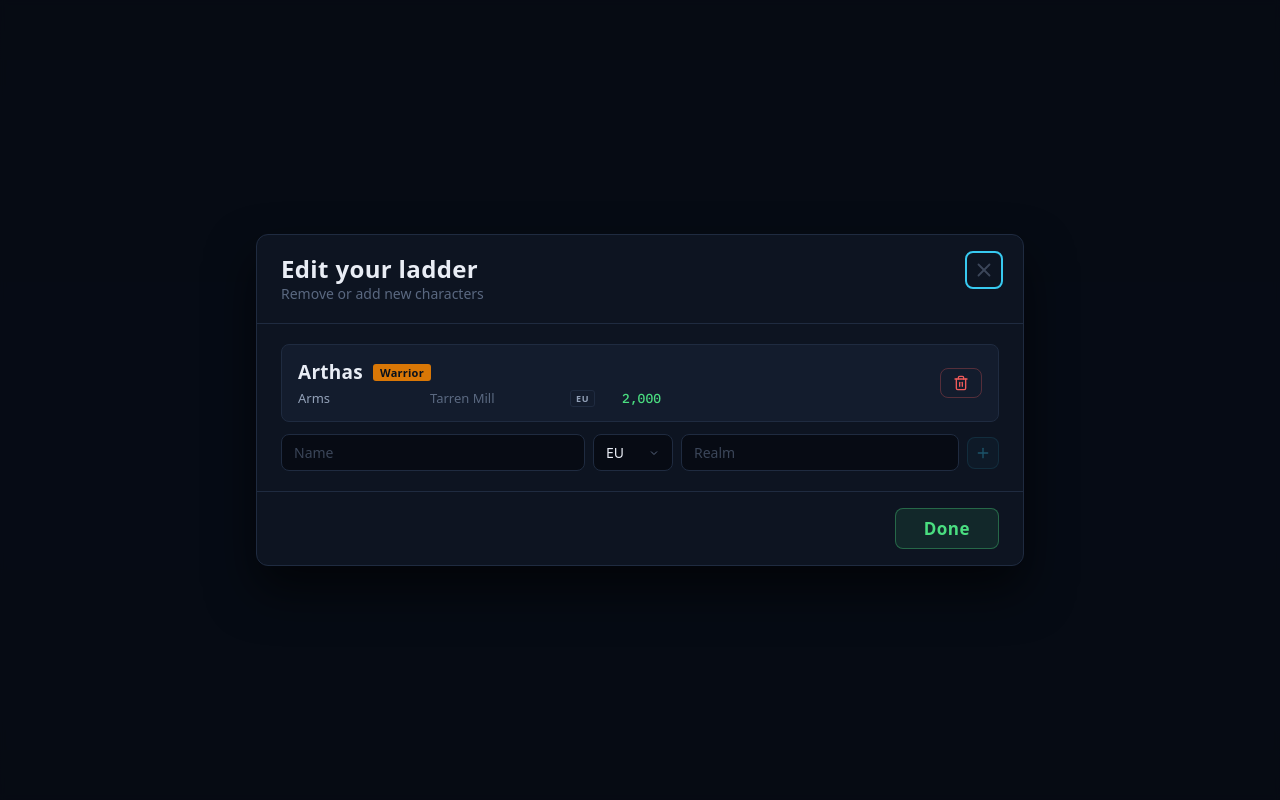
Test: EditView › blocks saving while a name is typed but not added
Expected: the button "Done" is enabled, [895,508,999,549]
In the field with placeholder "Name": (433, 453) [281,434,585,471], type "Sylvanas"
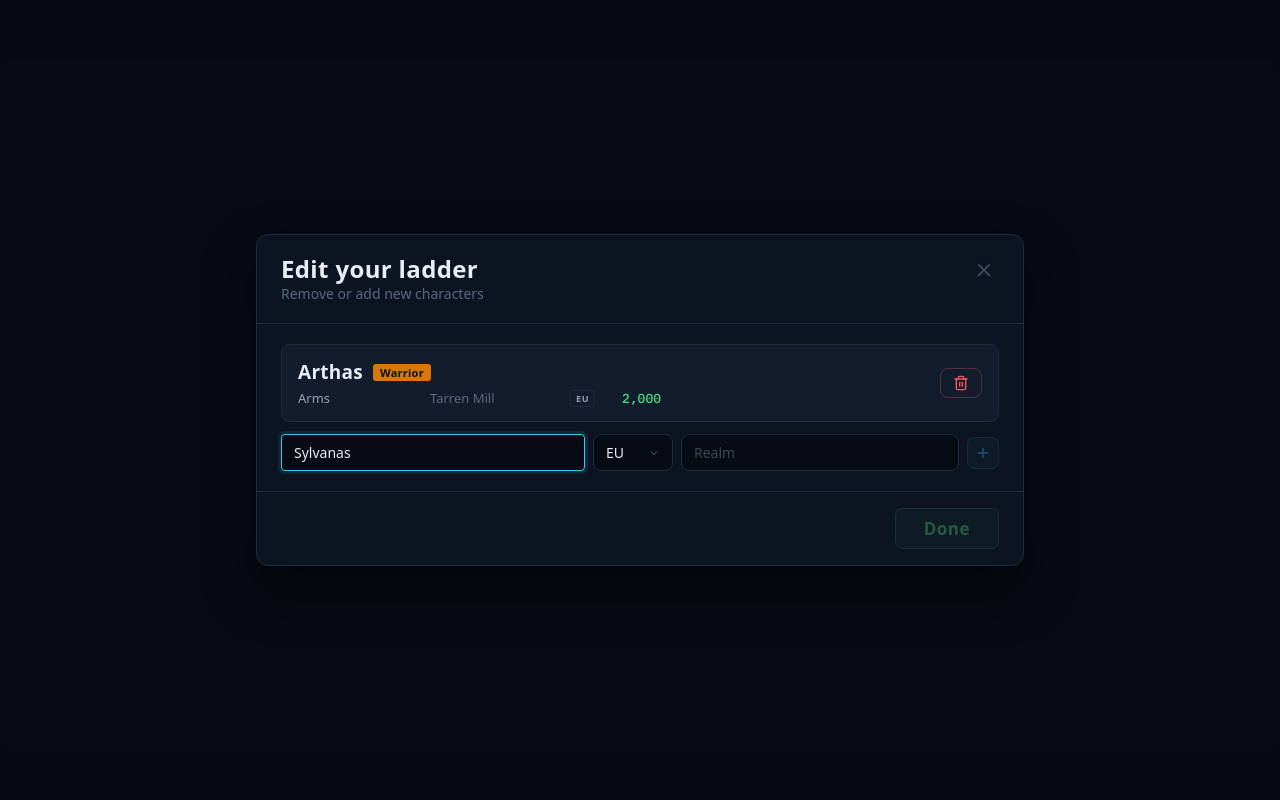
Now the button "Done" is disabled, box [895,508,999,549]
